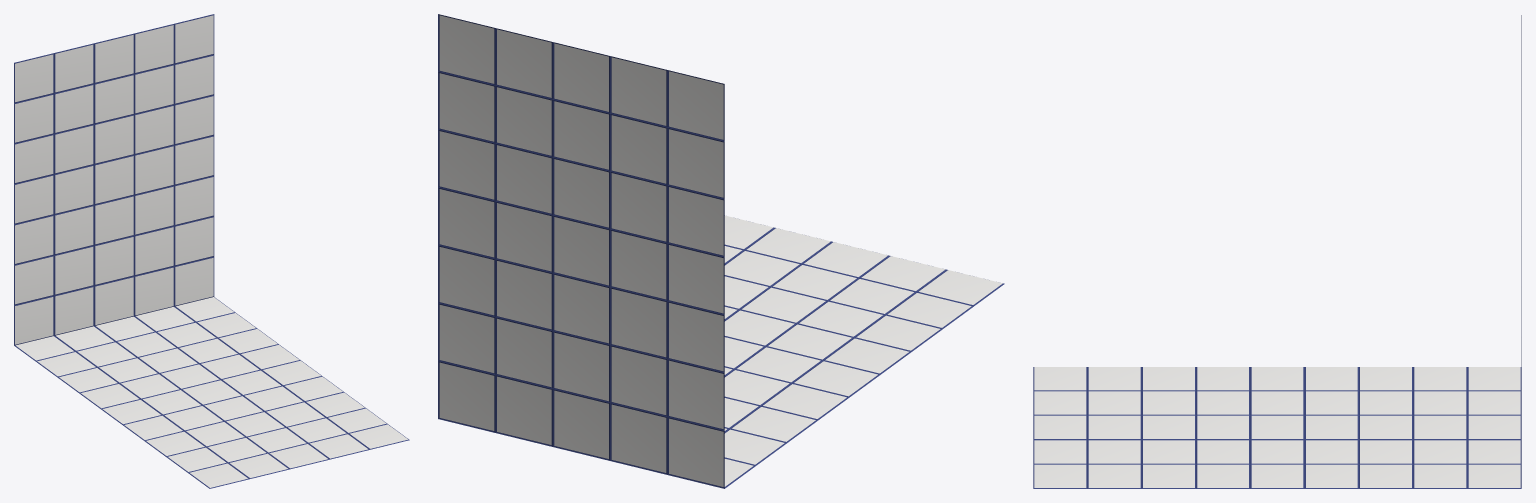
Rendered from Bathroom2_floortile.fbx.
The picture shows the model from 3 angles, left to right: view 1: azimuth 30°, elevation 25°; view 2: azimuth 150°, elevation 25°; view 3: azimuth 270°, elevation 25°; orthographic projection. The views are drawn at different scales.
Visible parts, largest first — view 1: Bathroom2_floortile; view 2: Bathroom2_floortile; view 3: Bathroom2_floortile.
Boxes of the visible parts, box(x1,y1,x2,y2) form: Bathroom2_floortile: box(14, 14, 409, 488); Bathroom2_floortile: box(438, 14, 1004, 488); Bathroom2_floortile: box(1033, 15, 1521, 488).
Size of the model in its own units: 289 by 390 by 489.
